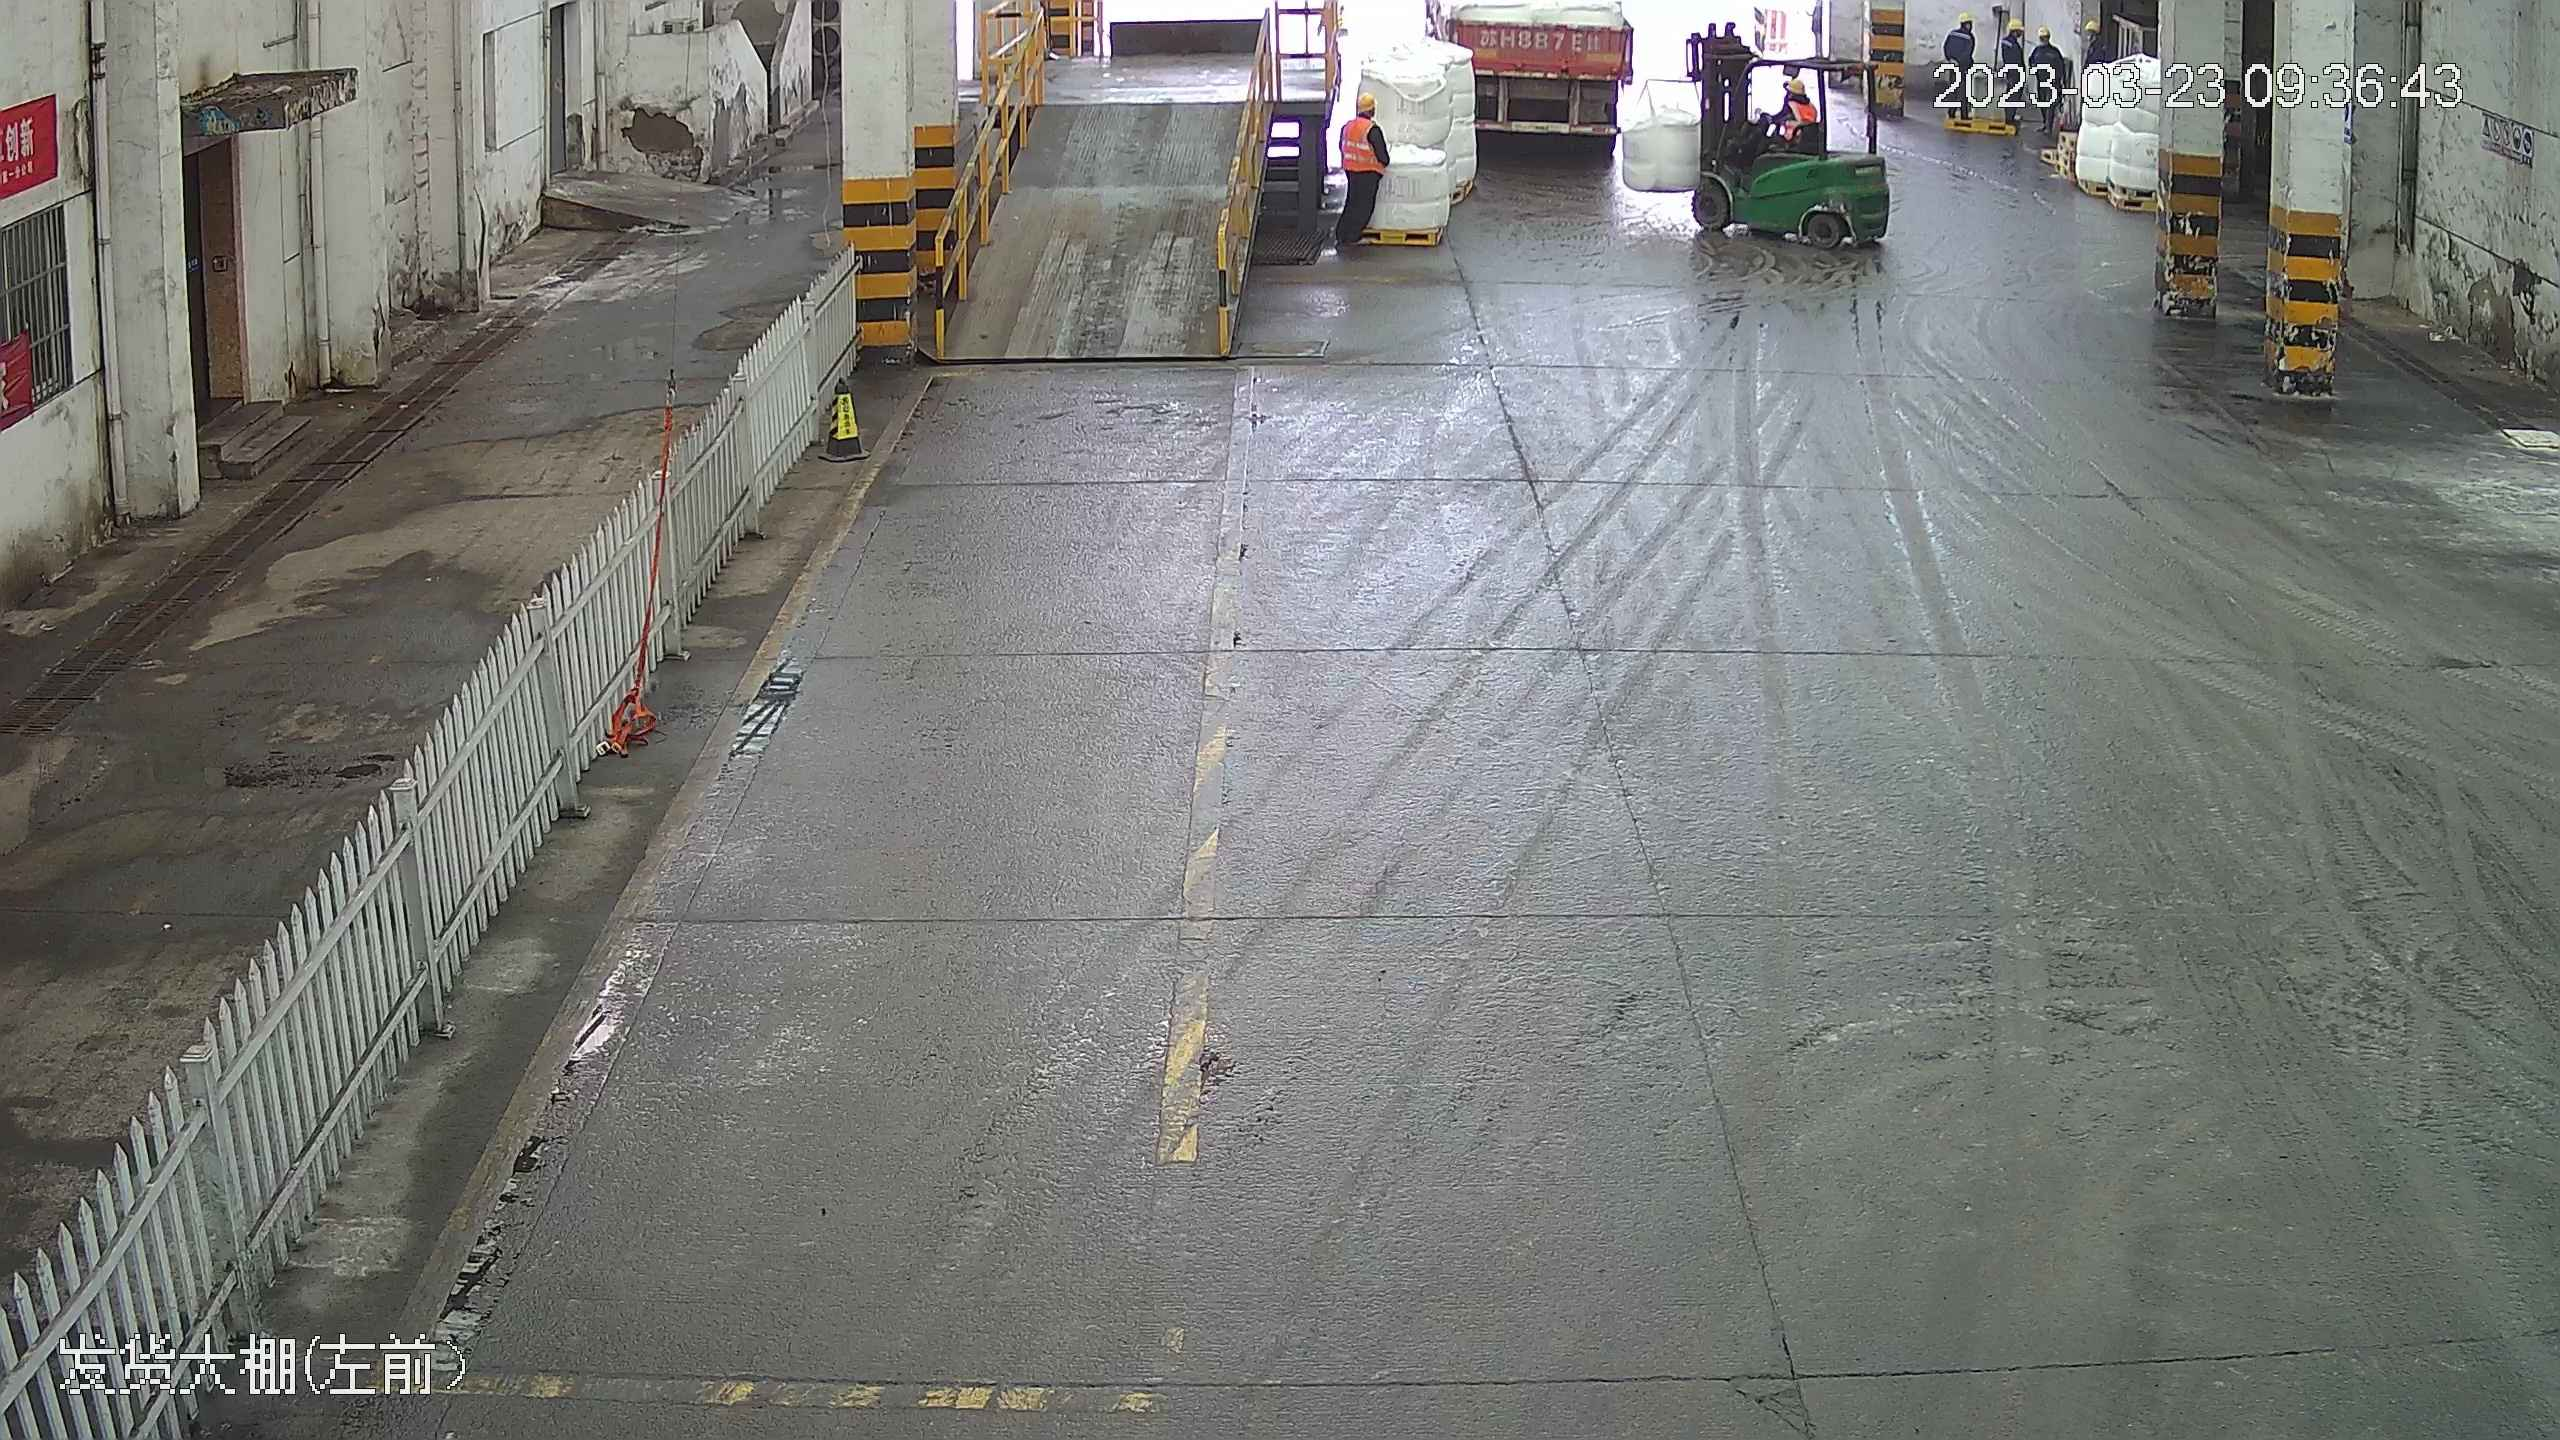head: (1341, 86, 1388, 139), (1776, 74, 1818, 121), (1944, 10, 1977, 54), (2029, 24, 2062, 64), (2082, 20, 2108, 60), (1997, 17, 2026, 54)
helmet: (1356, 84, 1377, 103), (1785, 77, 1806, 96), (2008, 18, 2025, 32), (2083, 21, 2100, 35), (2037, 26, 2051, 39), (1957, 12, 1973, 23)
people: (1338, 80, 1394, 255), (1750, 72, 1819, 171), (1940, 13, 1977, 112)
truck: (1449, 6, 1637, 147)
